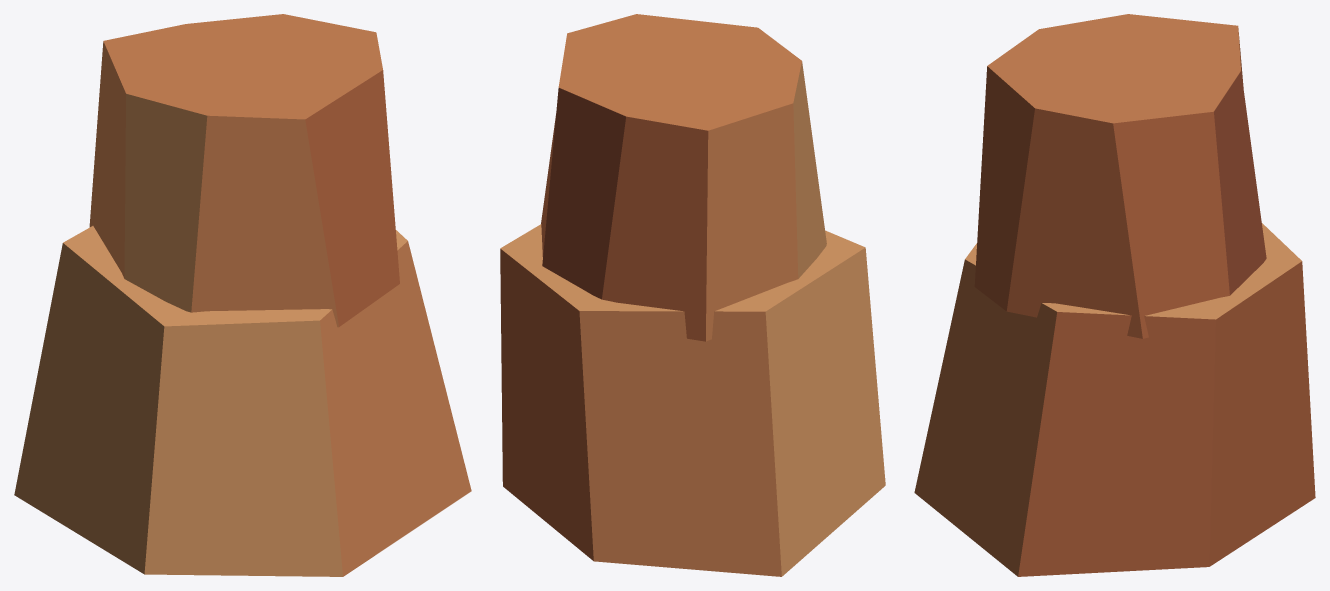
The model's file is butte_c.glb.
3 views of the same model, side by side, from view 1: azimuth 30°, elevation 25°; view 2: azimuth 150°, elevation 25°; view 3: azimuth 270°, elevation 25° (orthographic). The views are drawn at different scales.
Parts seen in each view (by area): view 1: butte_c; view 2: butte_c; view 3: butte_c.
Boxes of the visible parts, bbox=[...] form: butte_c: bbox=[14, 14, 471, 576]; butte_c: bbox=[500, 14, 885, 576]; butte_c: bbox=[914, 14, 1315, 576].
Size of the model in its own units: 18.7 by 23.27 by 19.32.
